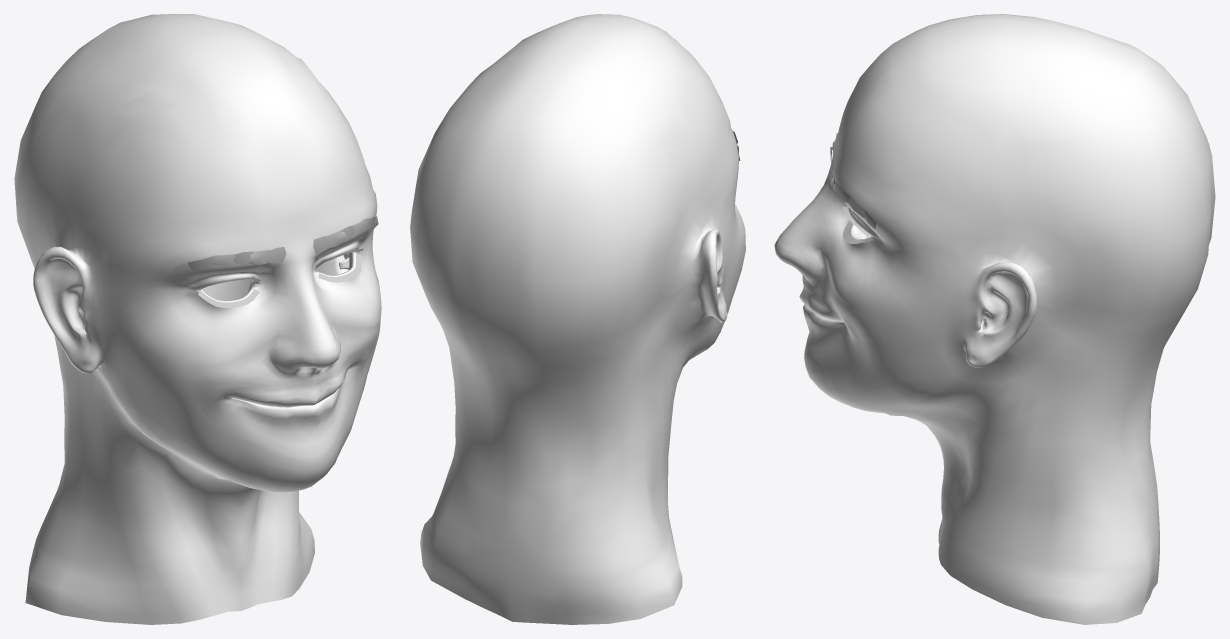
File: mouthSmile.obj
3 renders of one model, left to right at view 1: azimuth 30°, elevation 25°; view 2: azimuth 150°, elevation 25°; view 3: azimuth 270°, elevation 25°, orthographic. The views are drawn at different scales.
Parts seen in each view (by area): view 1: FaceMesh_Plane.003; view 2: FaceMesh_Plane.003; view 3: FaceMesh_Plane.003.
Part boxes in pixels (left/top/right/bottom): FaceMesh_Plane.003: left=14, top=14, right=381, bottom=624; FaceMesh_Plane.003: left=410, top=14, right=745, bottom=624; FaceMesh_Plane.003: left=774, top=14, right=1215, bottom=624.
Bounding box in the file's own units: 1.54 × 2.71 × 1.94.
5 materials, 1 textured.
